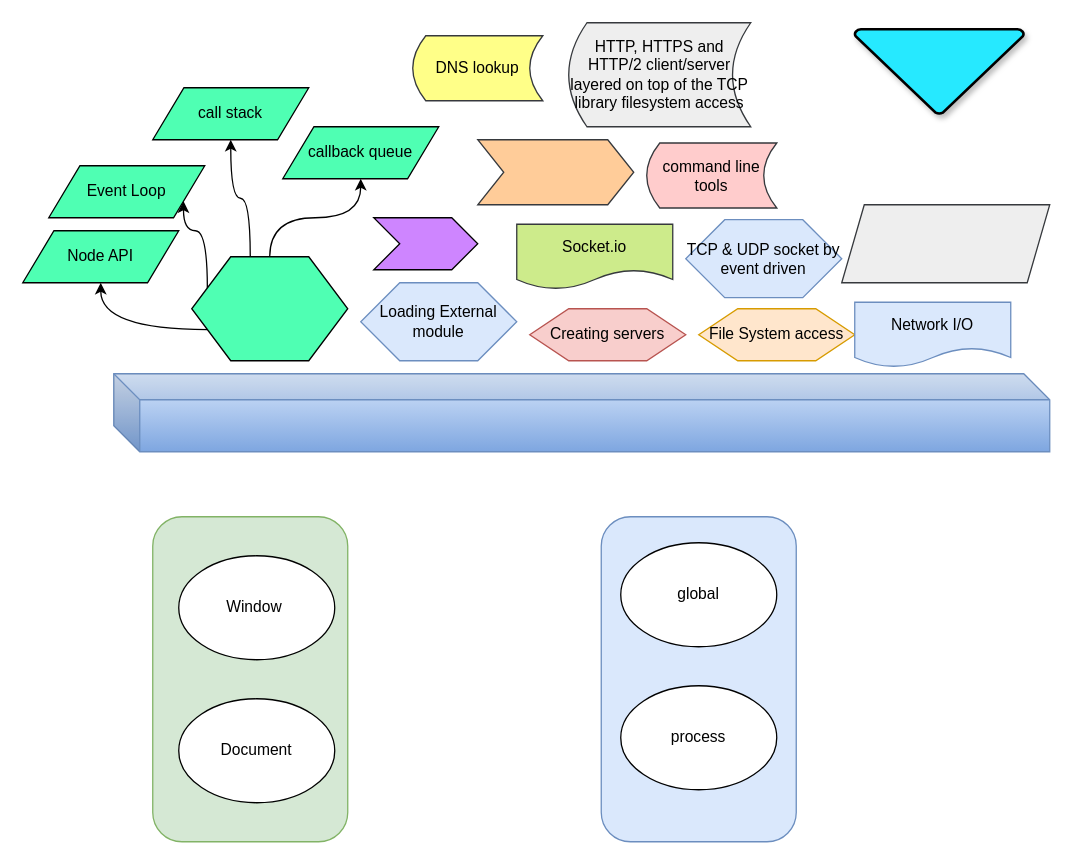
Some shapes in this 1073 by 864 pixel diagram are drawn without their labels. The shapes that lost their labels are listed below. From the top down, each one's centre as x and y in pixels, then its label:
At [940,73]: "io.js is merged with node.js".
At [555,171]: "Excellent process control over child process".
At [425,243]: "REPL".
At [945,243]: "Built-in rudimentary unit testing support through assertions".
At [269,308]: "Asynchronous".
At [581,412]: "v8 engine".
